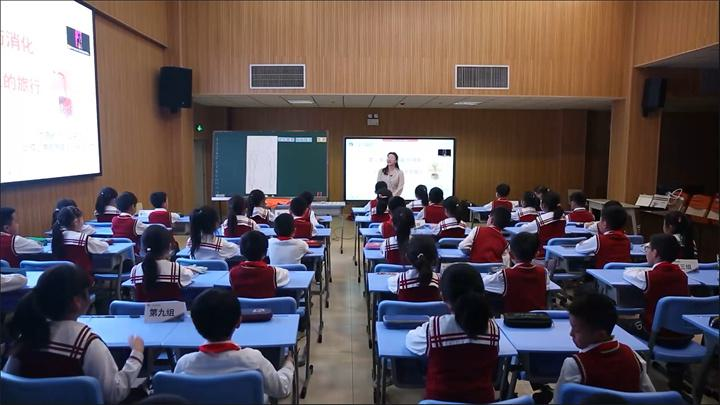distraction: (551, 295, 642, 386), (462, 207, 512, 260)
listen: (412, 266, 512, 399), (19, 272, 129, 392), (180, 290, 285, 386), (632, 232, 699, 298), (494, 233, 549, 297), (134, 229, 193, 286), (582, 199, 630, 264), (393, 234, 441, 295), (232, 232, 288, 284), (46, 214, 104, 263), (195, 203, 233, 256), (269, 210, 304, 264), (117, 190, 145, 236)
